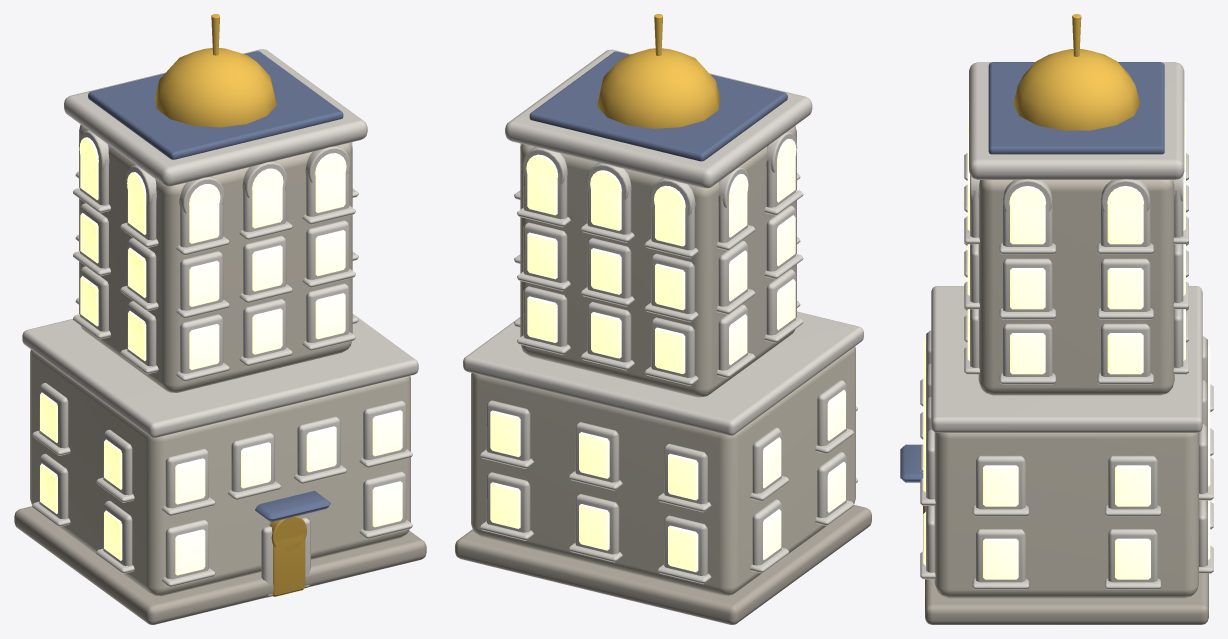
3 views of the same model, side by side, from view 1: azimuth 30°, elevation 25°; view 2: azimuth 150°, elevation 25°; view 3: azimuth 270°, elevation 25° (orthographic). The views are drawn at different scales.
Parts seen in each view (by area): view 1: Cube; view 2: Cube; view 3: Cube.
Part boxes in pixels (x1,y1,x2,y2): Cube: (14, 14, 426, 624); Cube: (455, 14, 871, 624); Cube: (900, 14, 1213, 624).
Bounding box in the file's own units: 0.699 × 1.22 × 0.6395.
